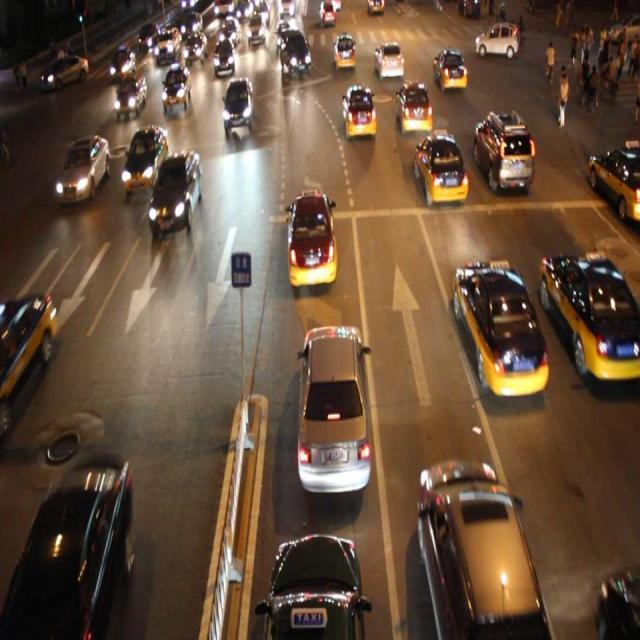car: (414, 460, 549, 640), (1, 460, 133, 640), (296, 322, 372, 494), (452, 261, 548, 396), (541, 253, 640, 381), (262, 535, 364, 640), (1, 296, 55, 432), (286, 192, 335, 288), (474, 111, 534, 189), (150, 151, 202, 238), (586, 139, 640, 220), (413, 131, 467, 202), (56, 133, 108, 204), (594, 563, 640, 640), (124, 128, 166, 186), (341, 85, 376, 139), (396, 83, 432, 132), (222, 78, 252, 133), (434, 48, 466, 91), (115, 73, 146, 114), (374, 39, 404, 80), (160, 67, 190, 106), (213, 38, 235, 75), (111, 48, 136, 78), (334, 35, 354, 69), (184, 33, 205, 61)
